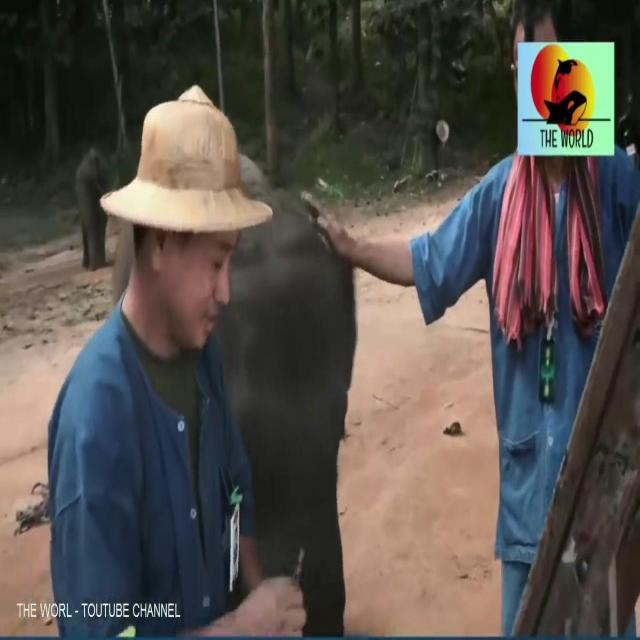Elephant: (216, 206, 373, 556), (72, 137, 111, 263)
